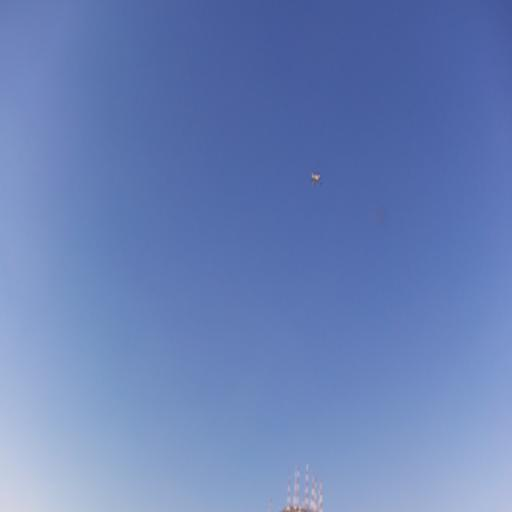drones: (310, 169, 324, 188)
